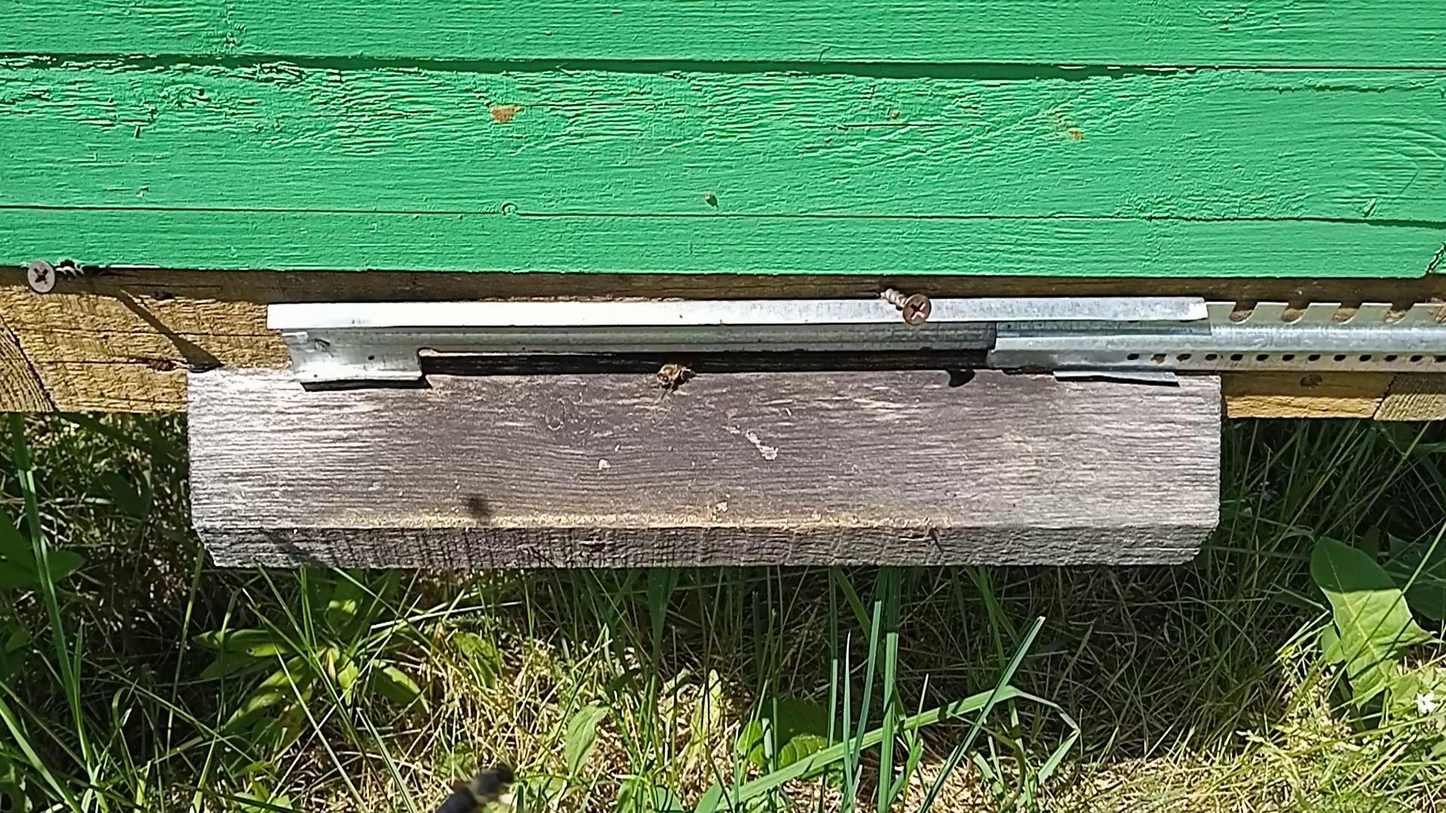worker-bee: (435, 764, 513, 812), (655, 364, 694, 391)
